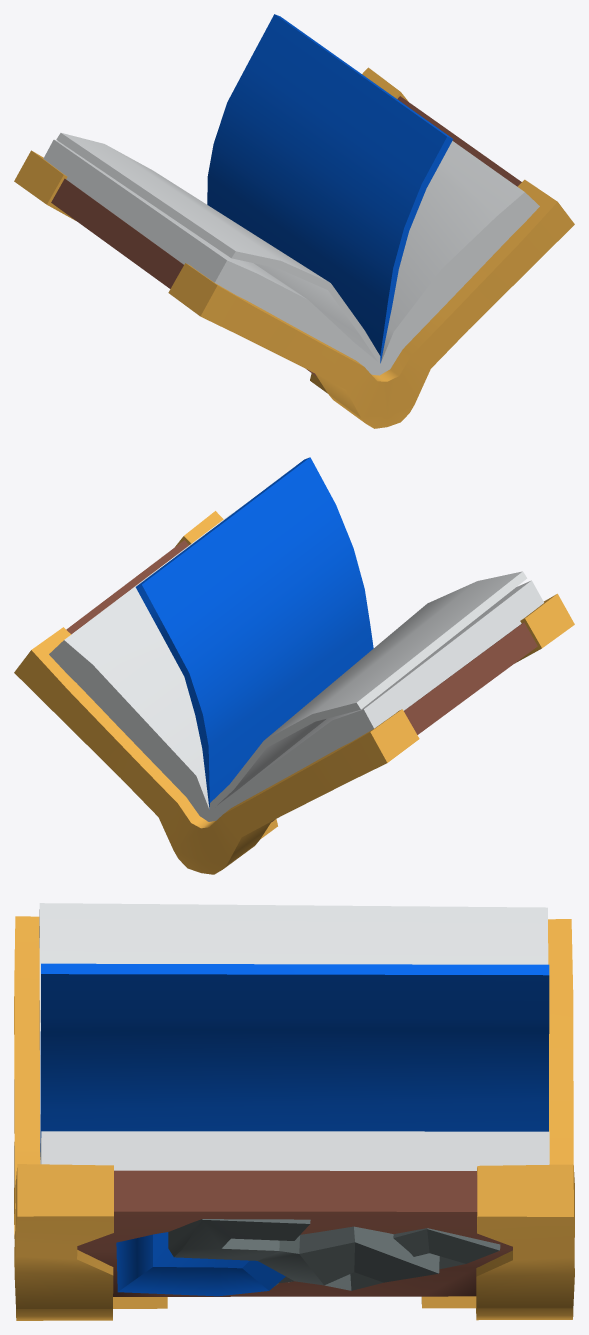
The model's file is Acc_RHand_16.fbx.
3 views of the same model, one above another, from view 1: azimuth 30°, elevation 25°; view 2: azimuth 150°, elevation 25°; view 3: azimuth 270°, elevation 25° (orthographic). The views are drawn at different scales.
Visible parts, largest first — view 1: Acc_RHand_16; view 2: Acc_RHand_16; view 3: Acc_RHand_16.
Boxes of the visible parts, <box> form: Acc_RHand_16: <box>14,14,574,428</box>; Acc_RHand_16: <box>14,457,574,874</box>; Acc_RHand_16: <box>14,903,574,1320</box>.
Bounding box in the file's own units: 27.48 × 18.75 × 23.88.
